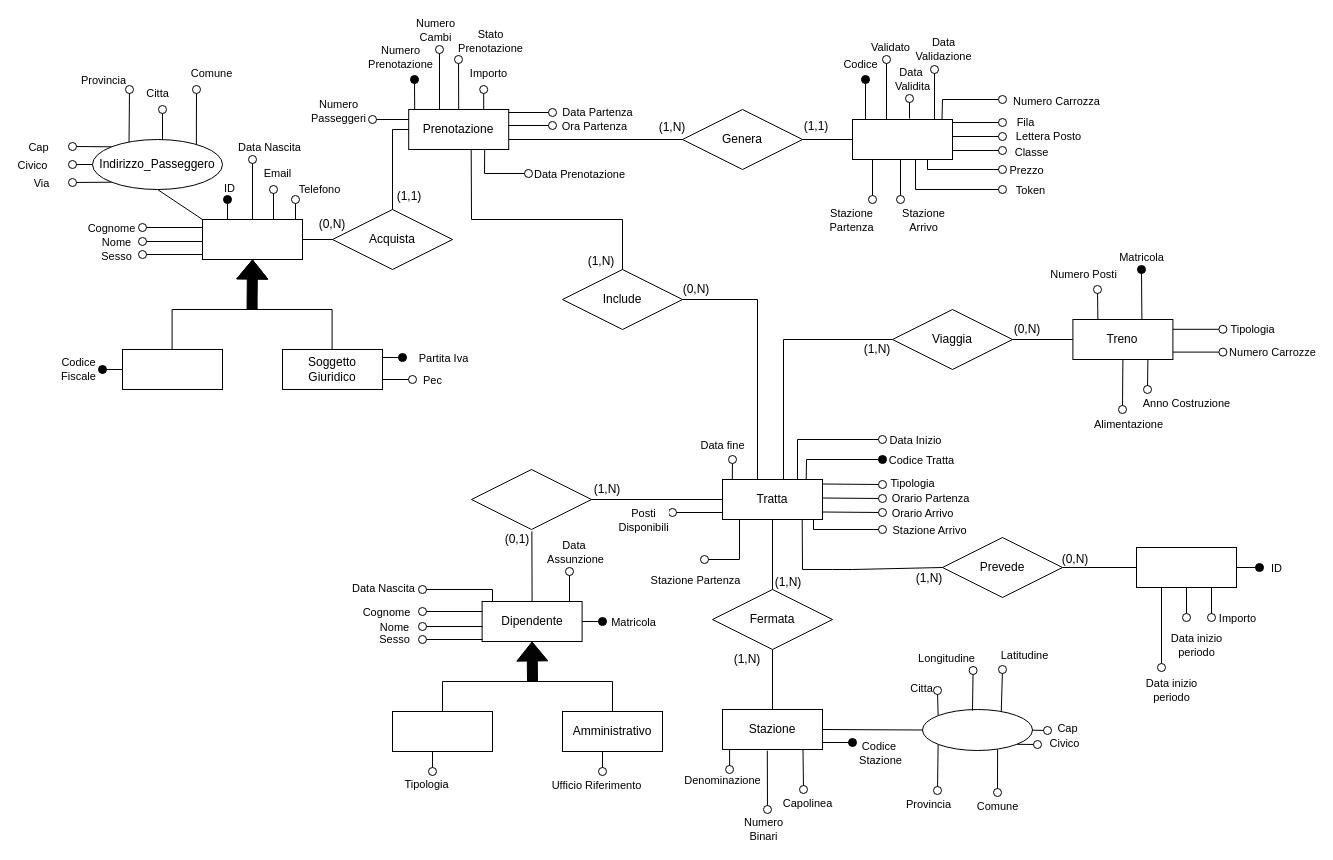
Image size: 1333x860. Some labels were removed from this diagram. The shapes that lost their labels are listed below. From the top down, each one's box as (x1, y1, x2, y2) in pixels, then its label:
(852, 118, 952, 160): Biglietto
(202, 218, 302, 260): Passeggero
(122, 348, 222, 390): Persona Fisica
(470, 468, 592, 530): Lavora
(1136, 546, 1236, 588): Tariffa
(392, 710, 492, 752): Operatore
(922, 708, 1032, 750): Indirizzo_Stazione
